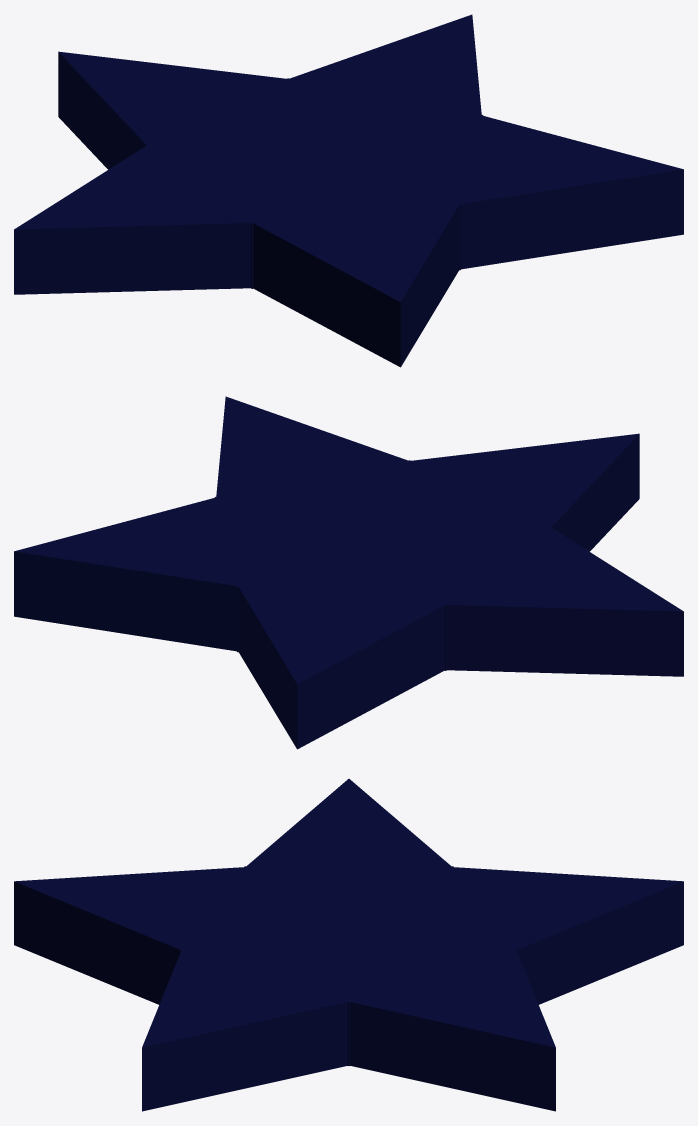
File: star.obj
3 renders of one model, top to bottom at view 1: azimuth 30°, elevation 25°; view 2: azimuth 150°, elevation 25°; view 3: azimuth 270°, elevation 25°, orthographic. The views are drawn at different scales.
Size of the model in its own units: 27.14 by 3 by 28.53.
